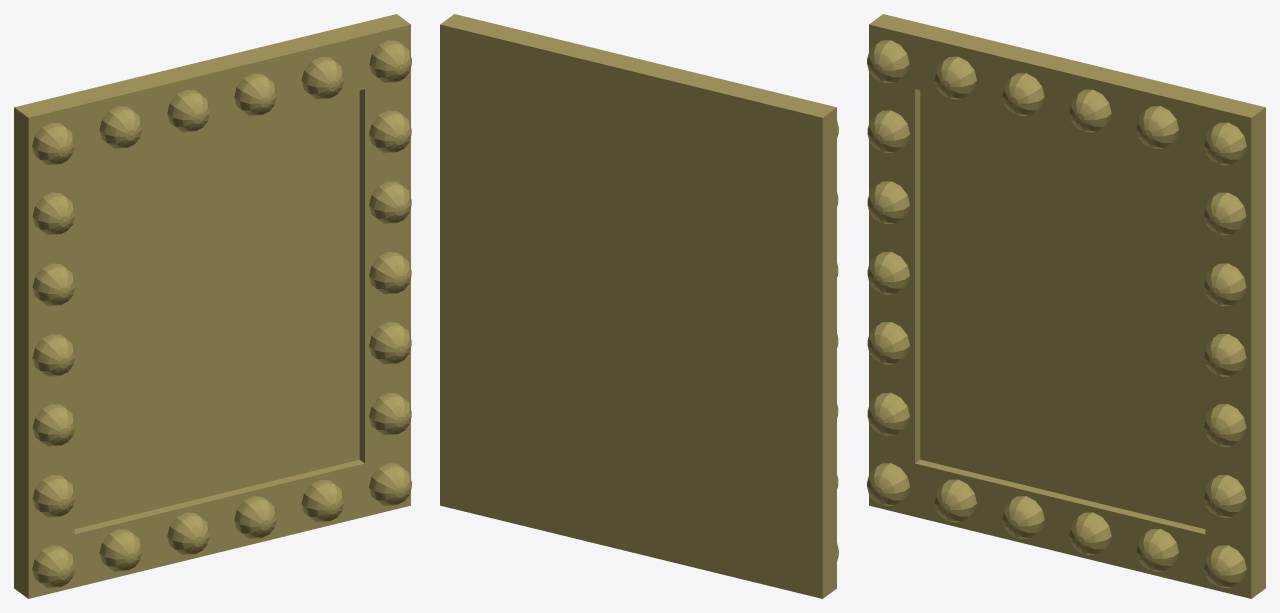
The model's file is Mirror.fbx.
The picture shows the model from 3 angles, left to right: view 1: azimuth 30°, elevation 25°; view 2: azimuth 150°, elevation 25°; view 3: azimuth 330°, elevation 25°; orthographic projection.
Visible parts, largest first — view 1: Mirror; view 2: Mirror; view 3: Mirror.
Boxes of the visible parts, x1,y1,x2,y2 form: Mirror: [14, 14, 411, 598]; Mirror: [440, 14, 838, 598]; Mirror: [867, 14, 1265, 598].
Size of the model in its own units: 75.81 by 91.11 by 9.6.
